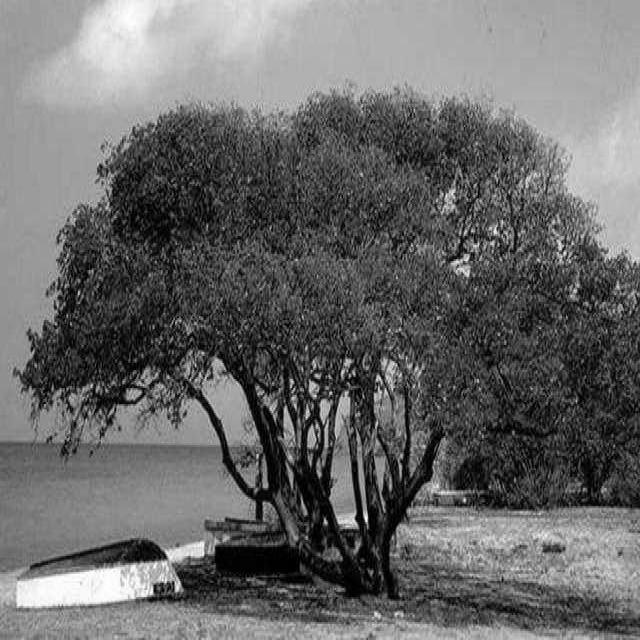Tree: (19, 94, 640, 595)
